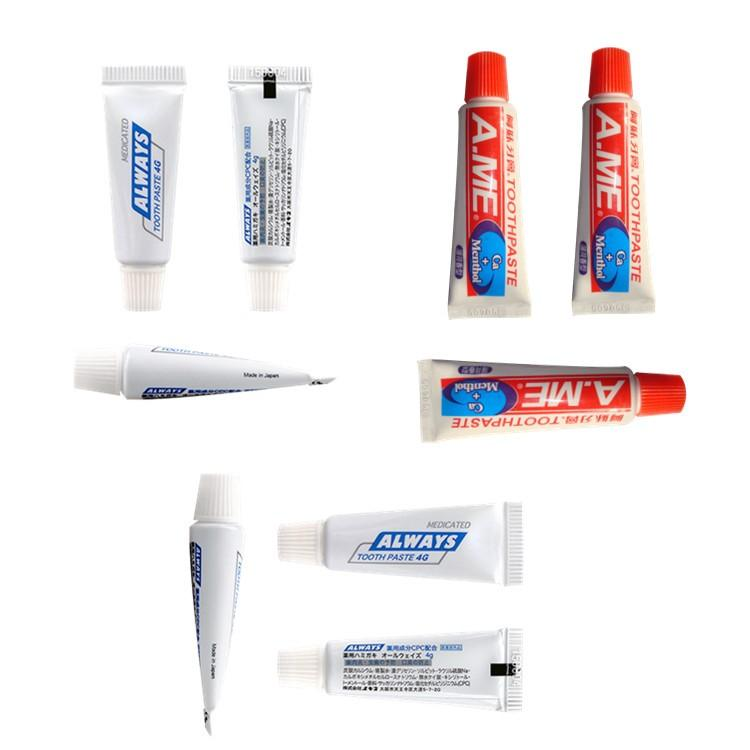toothpaste: (426, 45, 545, 327), (555, 39, 671, 325), (403, 349, 713, 455), (91, 58, 194, 319), (269, 623, 534, 724), (268, 495, 534, 593), (162, 465, 256, 740), (215, 53, 311, 319), (53, 331, 343, 413)
